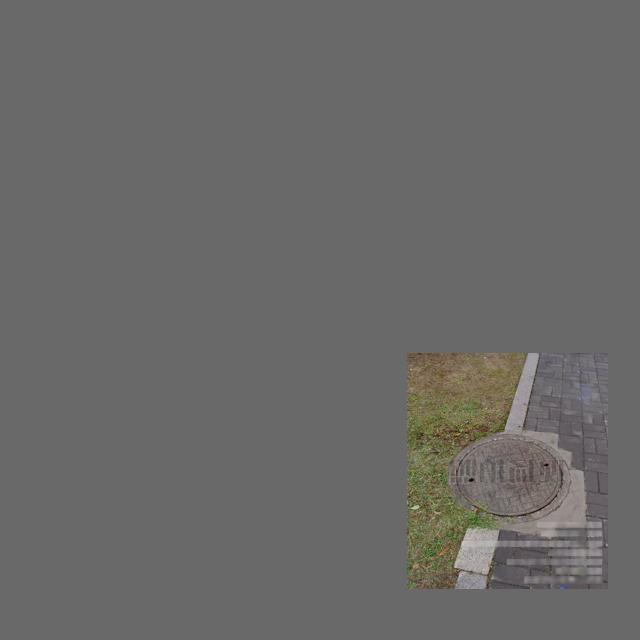good: (450, 434, 571, 523)
